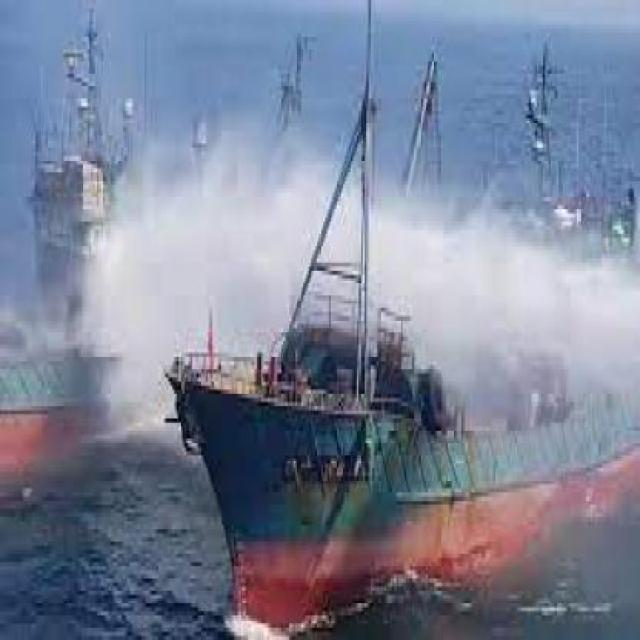fish-b: (157, 242, 638, 640)
